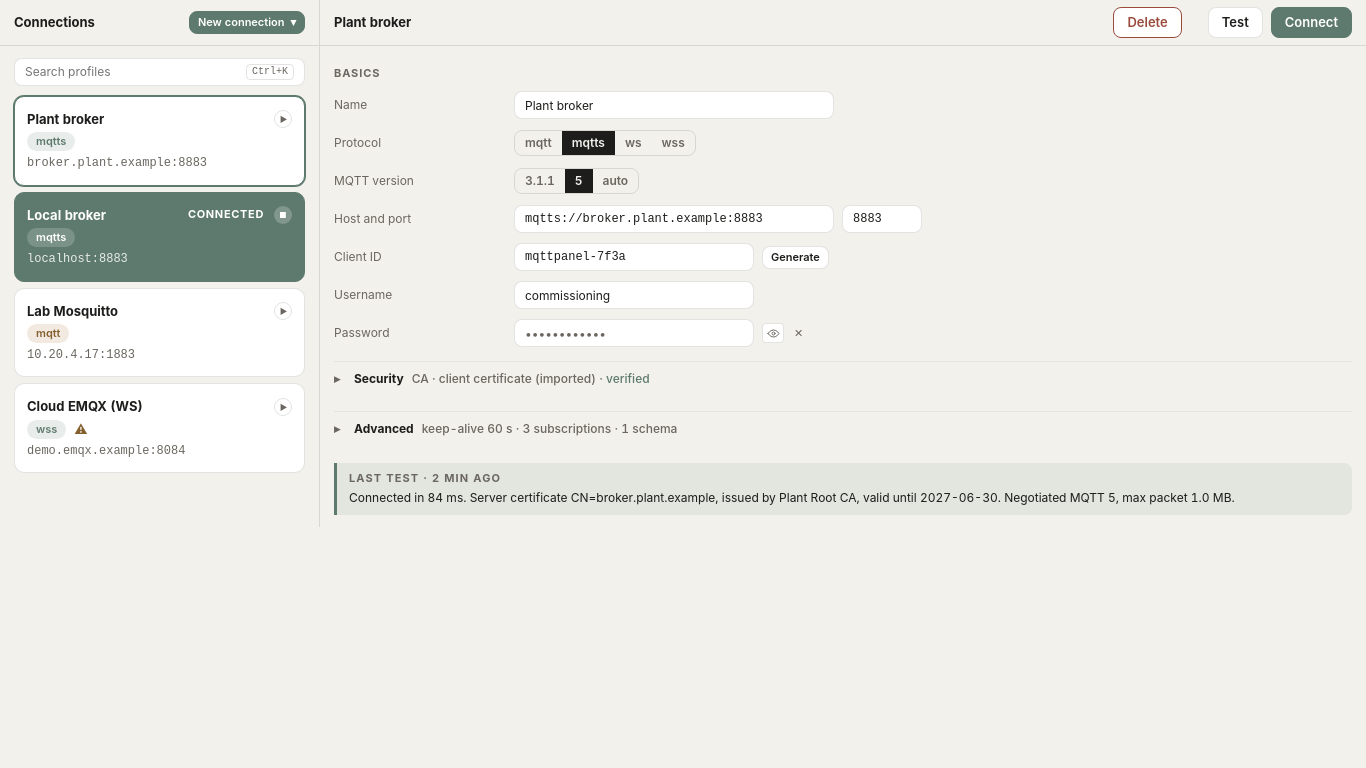
Test case: Change set 5: play button on idle cards (C-21) › idle cards show ▶, open ones ■, never both; ▶ connects without changing the selection
Expected: the button with test id "card-stop" is shown, [274,206,292,224]
Click the button with test id "card-play" next to "Lab Mosquitto" at (283, 311), box [274,302,292,320]
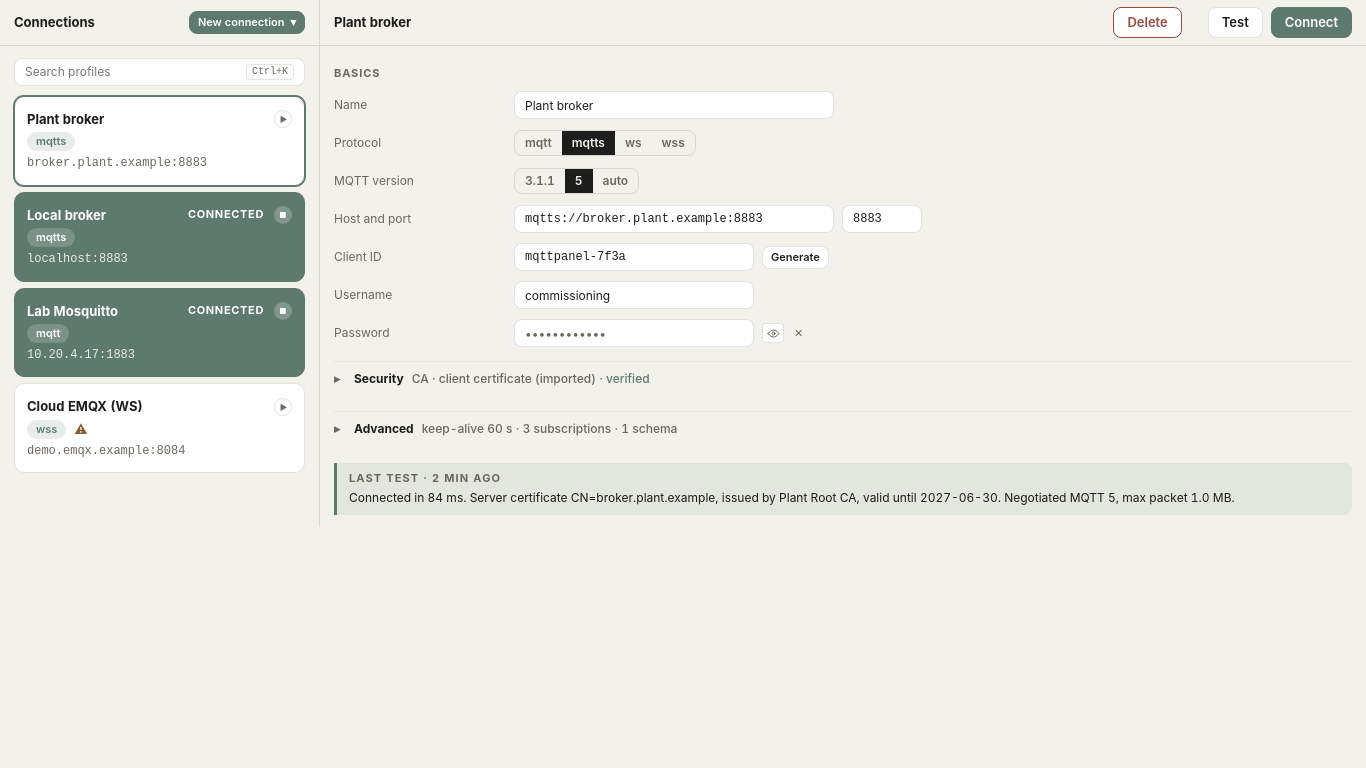
Now the button with test id "card-stop" in the row of "Lab Mosquitto" is shown, box [274,302,292,320]
